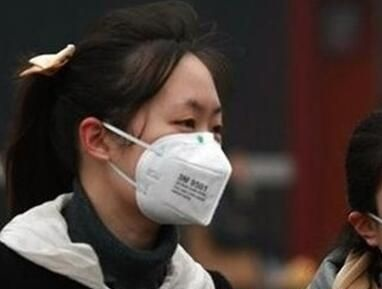face_mask: (116, 61, 230, 225)
